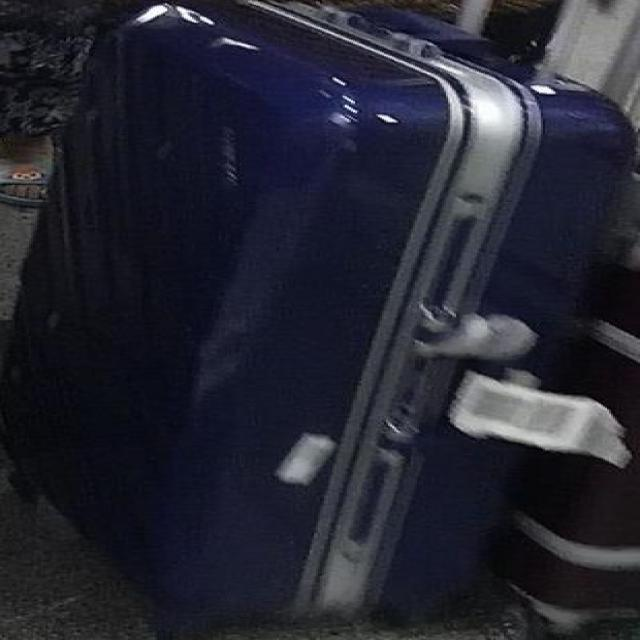suitcase: (4, 0, 638, 639)
